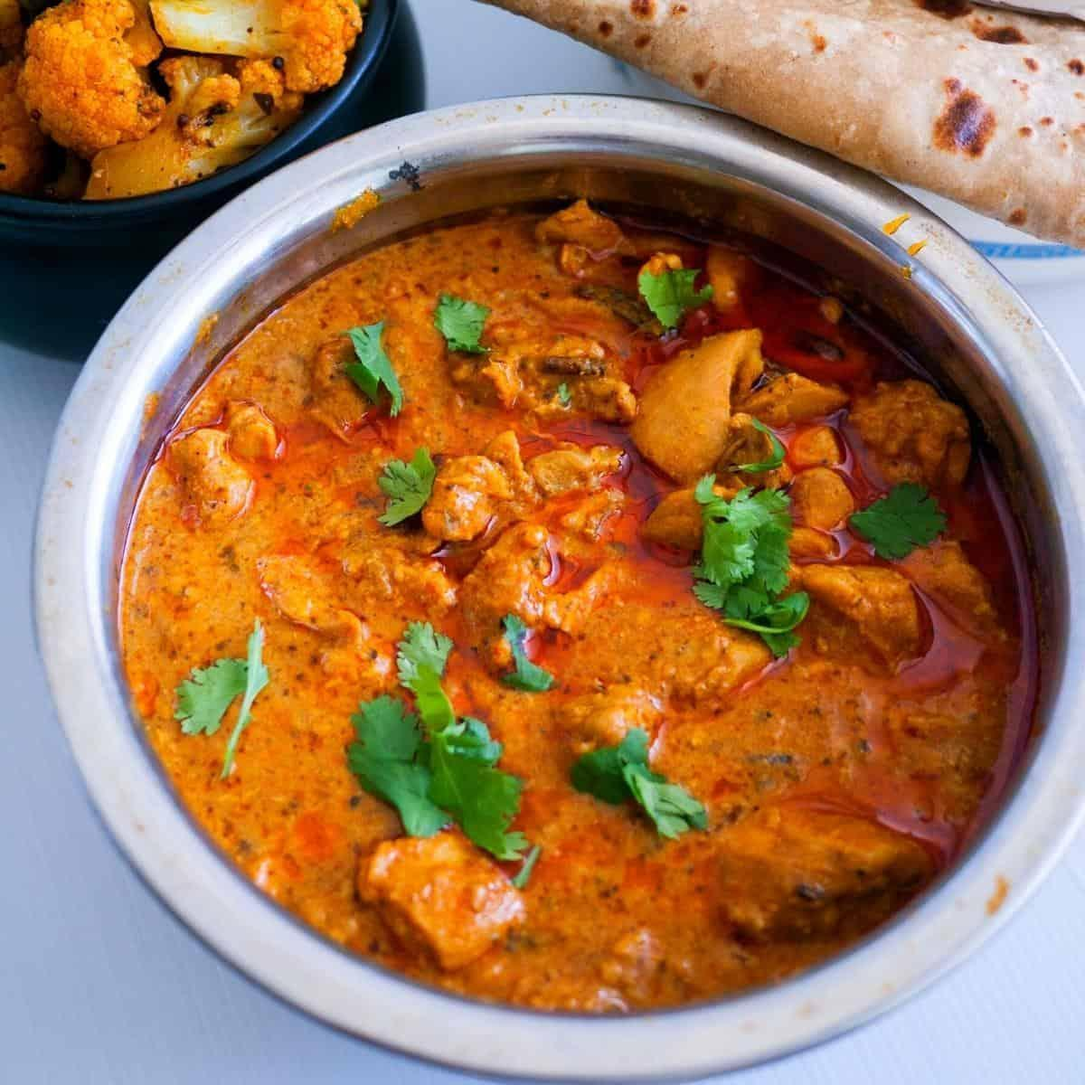chicken: (127, 140, 973, 997)
roti: (570, 17, 1085, 180)
